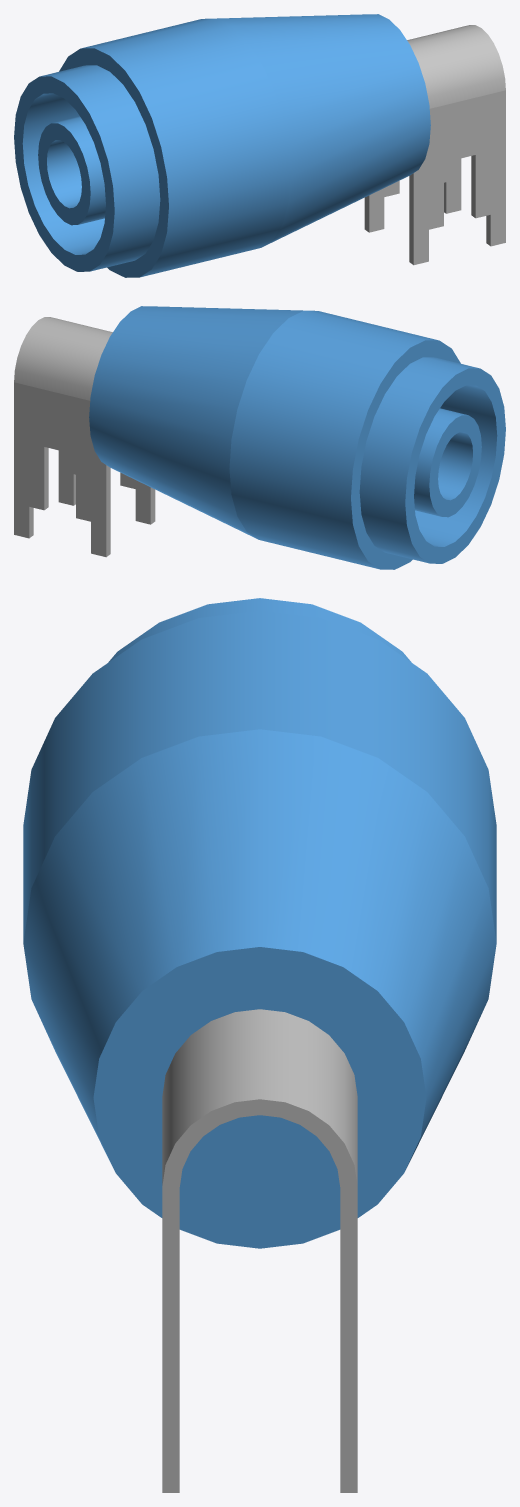
The model's file is Banana PCB.dae.
The picture shows the model from 3 angles, top to bottom: view 1: azimuth 30°, elevation 25°; view 2: azimuth 150°, elevation 25°; view 3: azimuth 270°, elevation 25°; orthographic projection. The views are drawn at different scales.
Parts seen in each view (by area): view 1: group_0 (×5), group_1; view 2: group_0 (×5), group_1; view 3: group_0 (×2), group_1.
Boxes of the visible parts, x1,y1,x2,y2 form: group_0 (×5): [14, 14, 430, 277]; group_1: [364, 25, 505, 265]; group_0 (×5): [89, 306, 505, 569]; group_1: [14, 317, 155, 557]; group_0 (×2): [23, 598, 496, 1248]; group_1: [162, 1009, 357, 1492].
Size of the model in its own units: 1.08 by 0.5315 by 0.6437.
